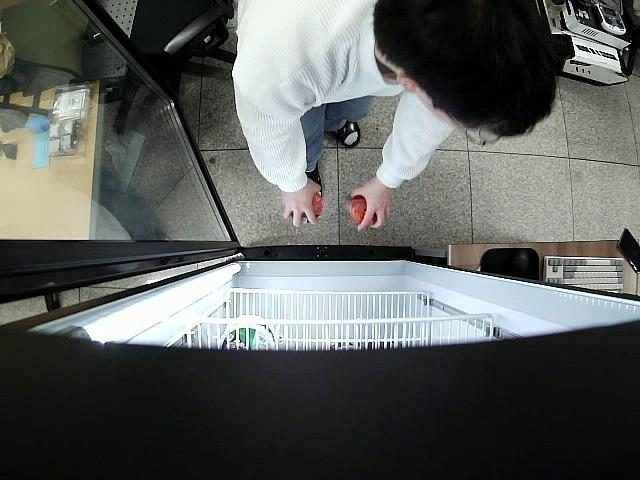02_shinRamen_S: (290, 194, 324, 225), (344, 195, 377, 224)
